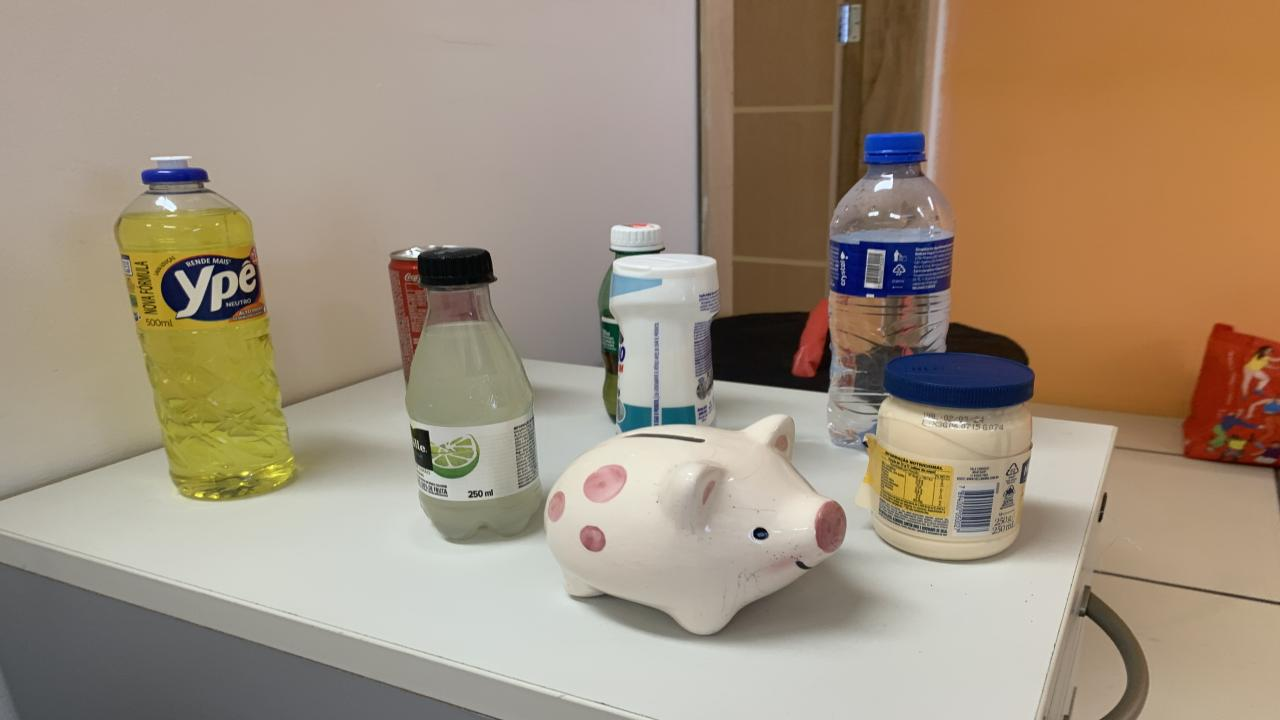Cleaner-Cleanup_Items: (610, 255, 720, 431)
Coke-Drinks: (388, 246, 442, 381)
Detergent-Cleanup_Items: (115, 158, 295, 499)
Guarana-Drinks: (598, 266, 620, 420), (610, 223, 665, 259)
Mayonnaise-Pantry_Items: (860, 352, 1032, 561)
Pig_Safe-Miscellaneous: (545, 414, 848, 634)
Soda-Drinks: (405, 248, 542, 540)
Water_Bottle-Drinks: (828, 133, 955, 448)
